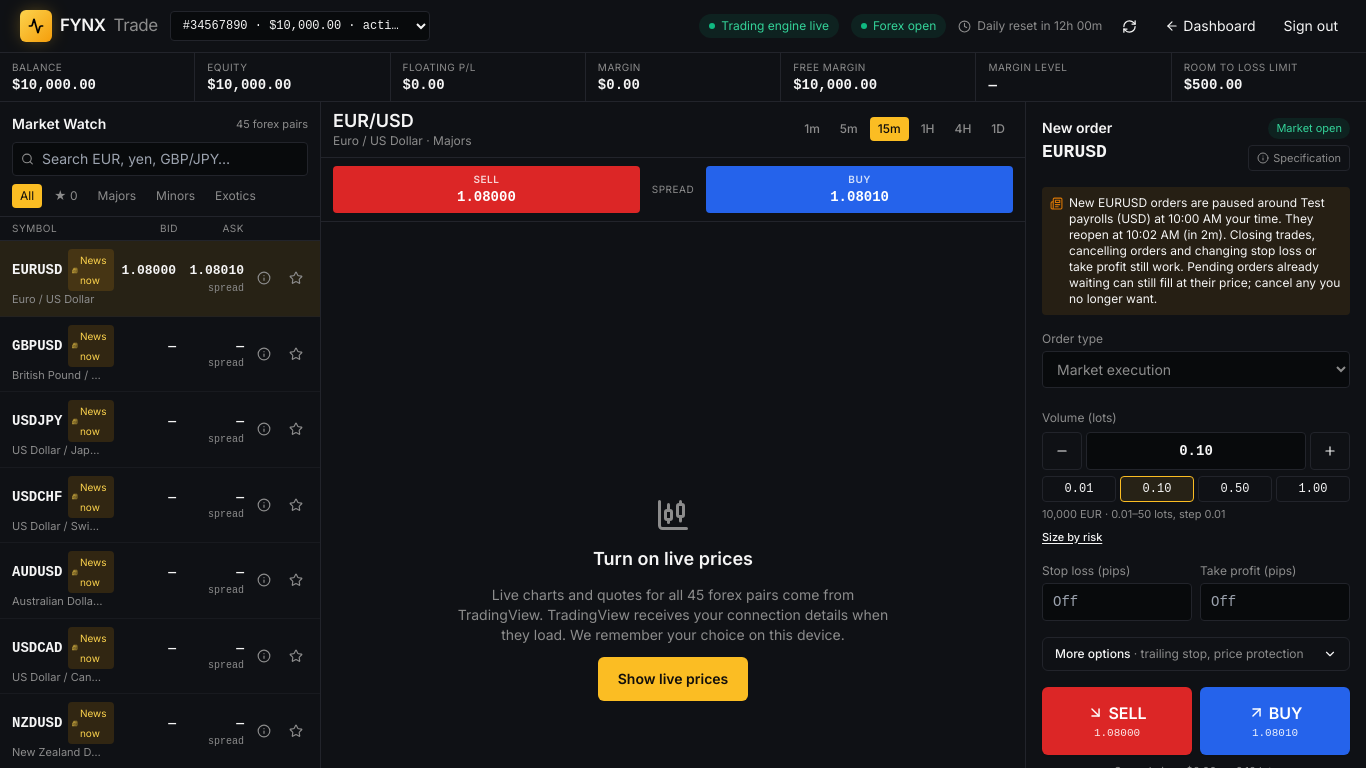
Test: news windows: terminal › inside an enforced window: note, badge in Market Watch, Confirm replaced by the reason; the calendar in the specification
The width and height of the screenshot is (1366, 768).
Expected: the element with test id "news-EURUSD" reads "News now", left=80, top=254, right=107, bottom=286
Click the button with test id "buy-button": (1275, 721) left=1200, top=686, right=1350, bottom=755
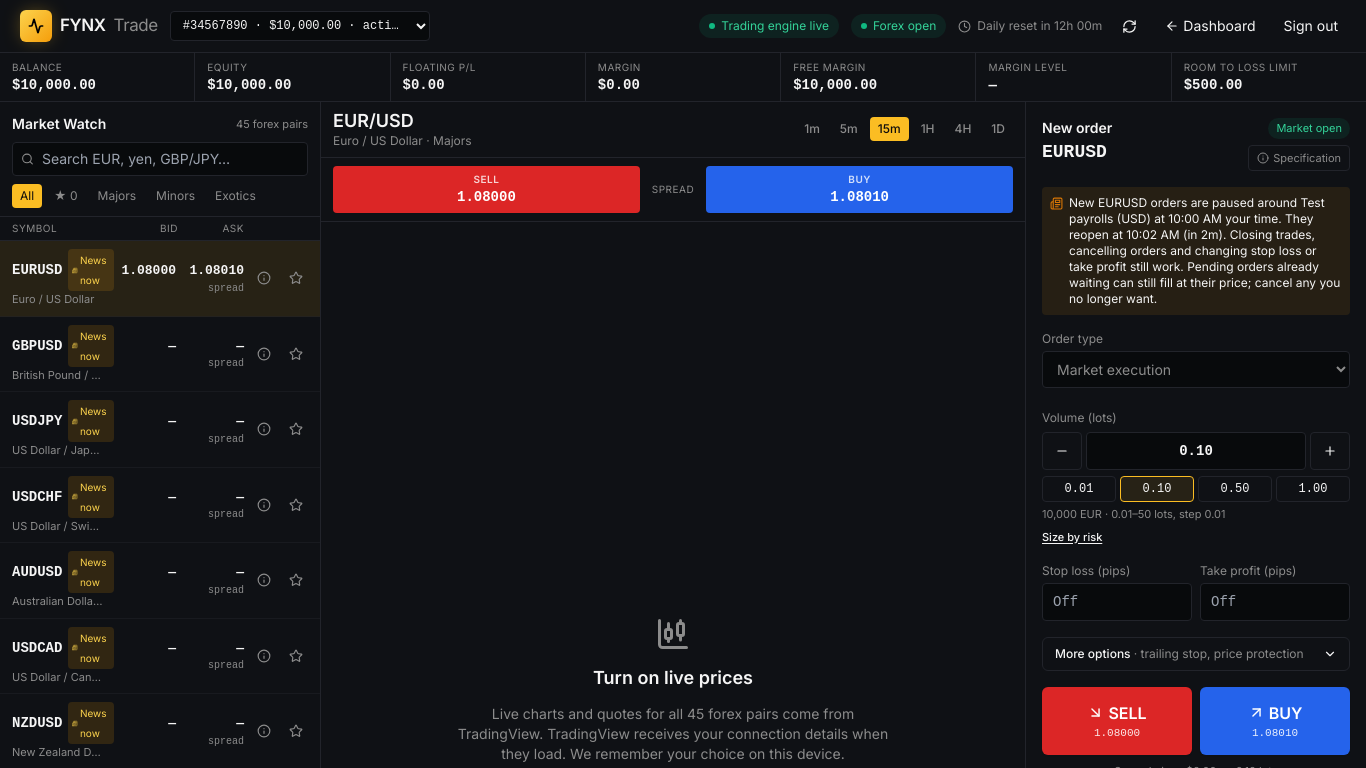
Click the button with test id "spec-button": (1299, 158) left=1248, top=144, right=1350, bottom=171
(page scrolled)
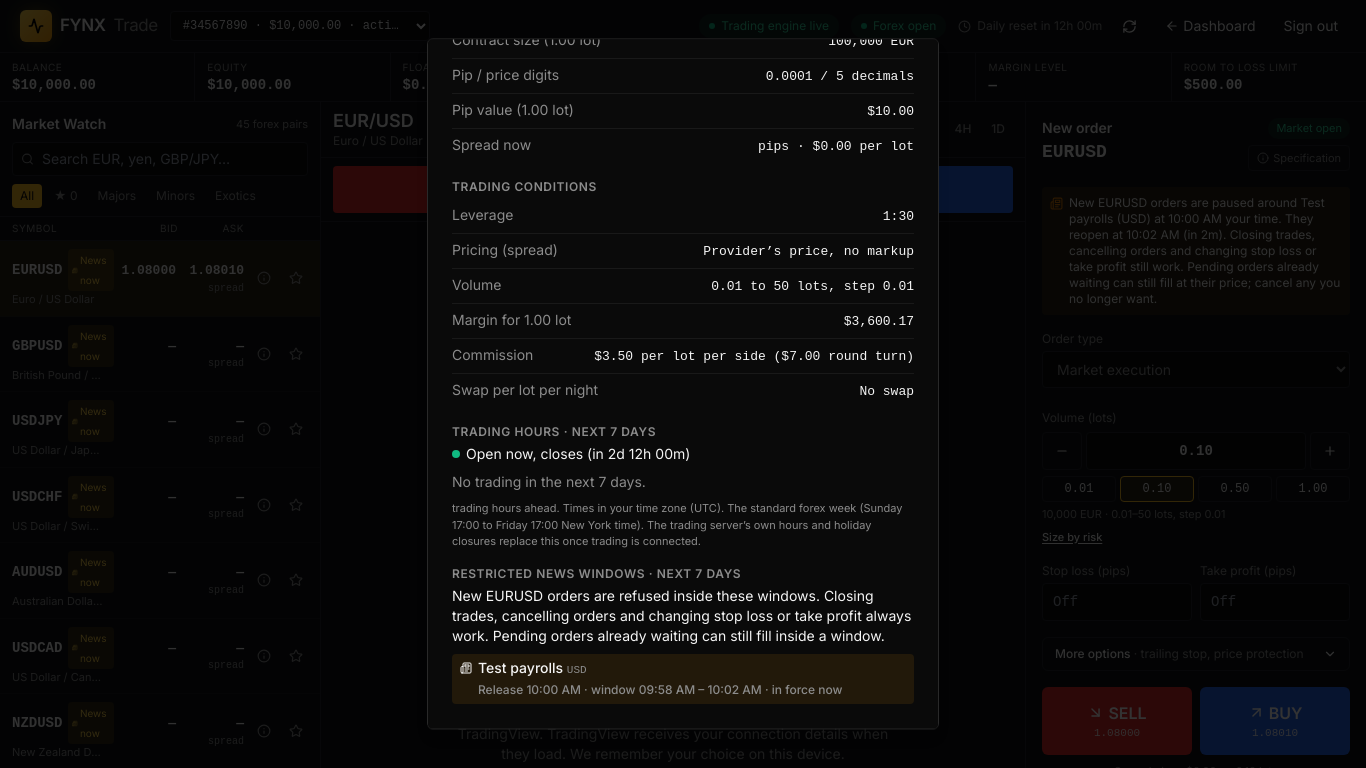
Now the text with test id "spec-news-rule" shows "New EURUSD orders are refused inside these windows.", box left=452, top=587, right=911, bottom=644
Now the list with test id "spec-news" reads "Test payrolls USD Release 10:00 AM · window 09:58 AM – 10:02 AM · in force now", box left=452, top=654, right=914, bottom=704
